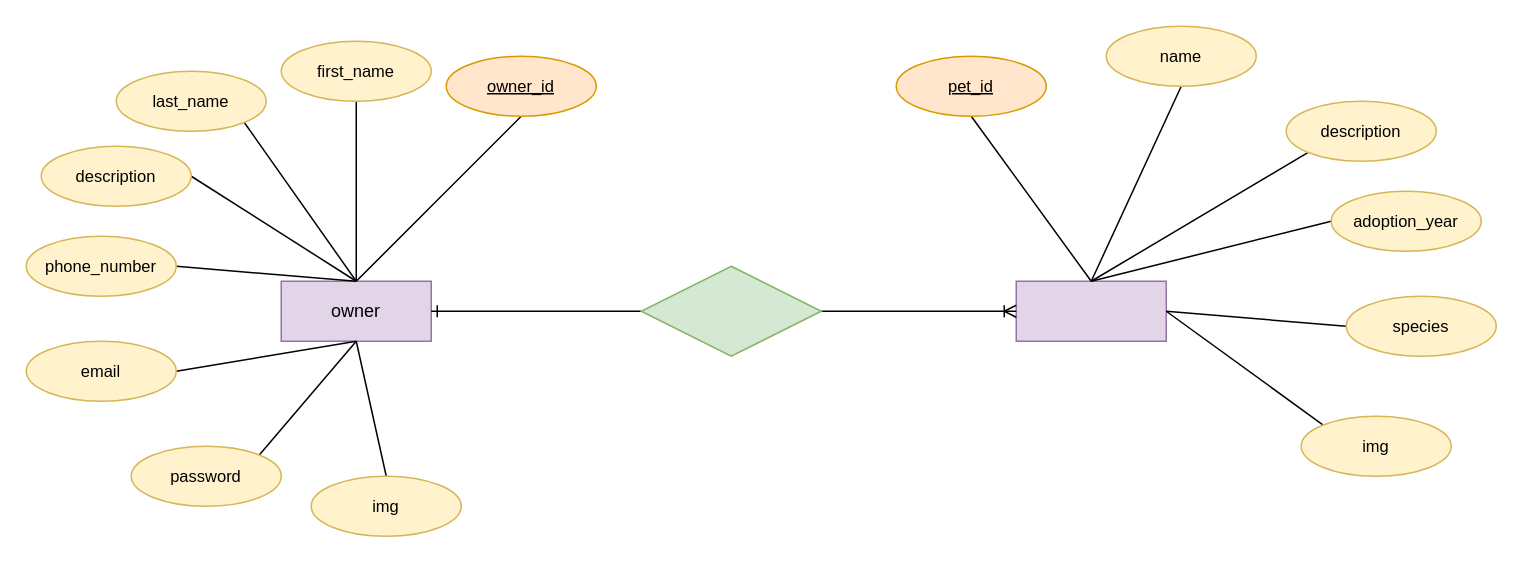
The diagram is 1523 pixels wide and 563 high, and some of its shapes have lost their labels. The box of each missing label's shape, as (x1, y1, x2, y2) in pixels:
has: (640, 265, 821, 356)
pet: (1015, 280, 1166, 341)
